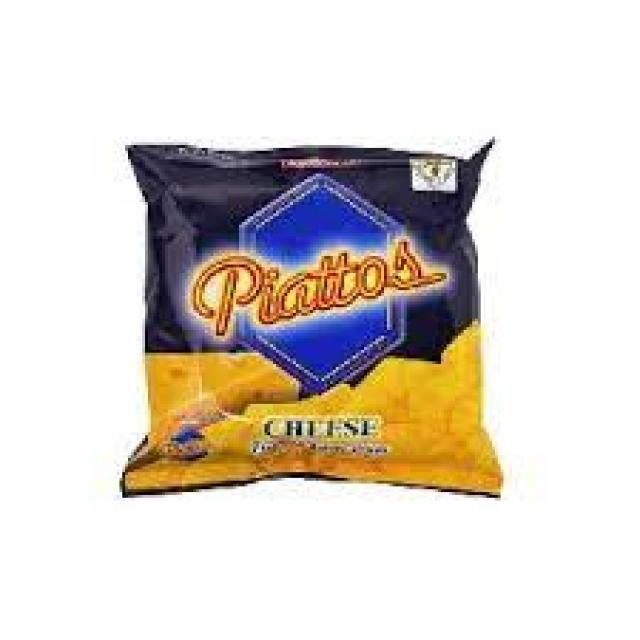junkfood wrapper: (122, 141, 500, 495)
